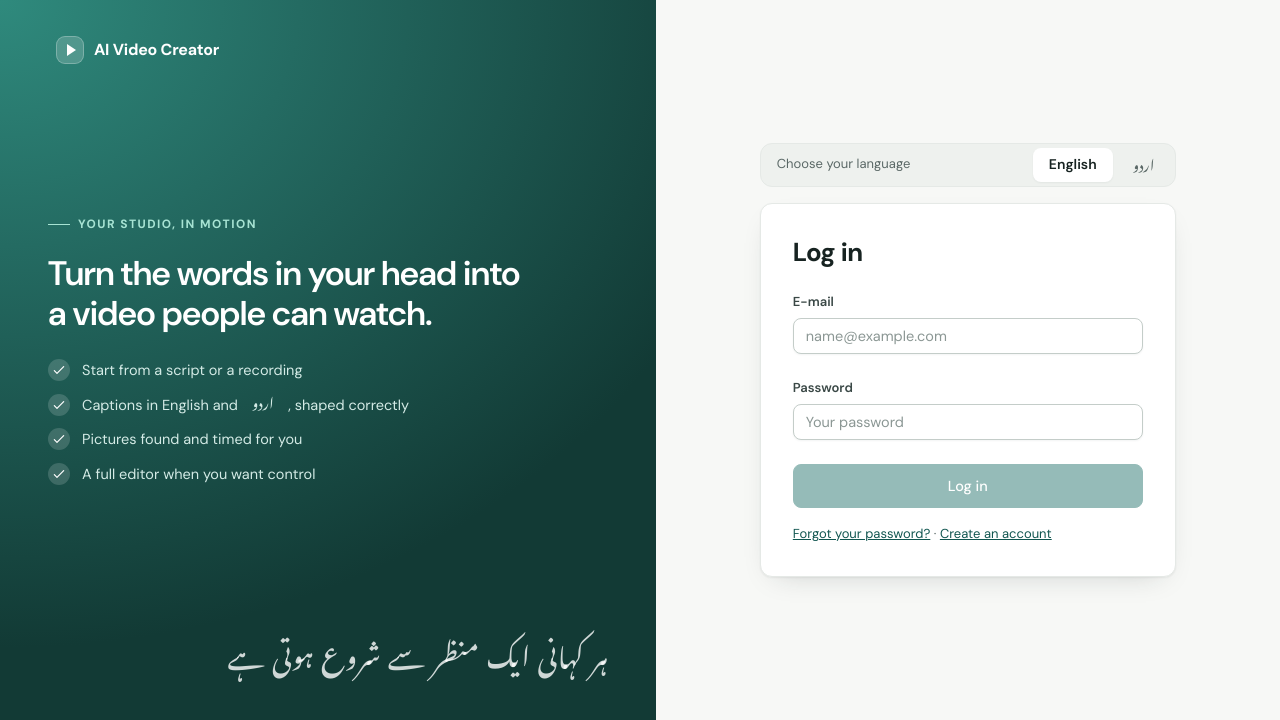
Test case: App and accounts › shows the server's reason when the log-in fails and never the password
Type "ann@example.com" into the field labelled "E-mail" at (968, 336), box [793,318,1143,354]
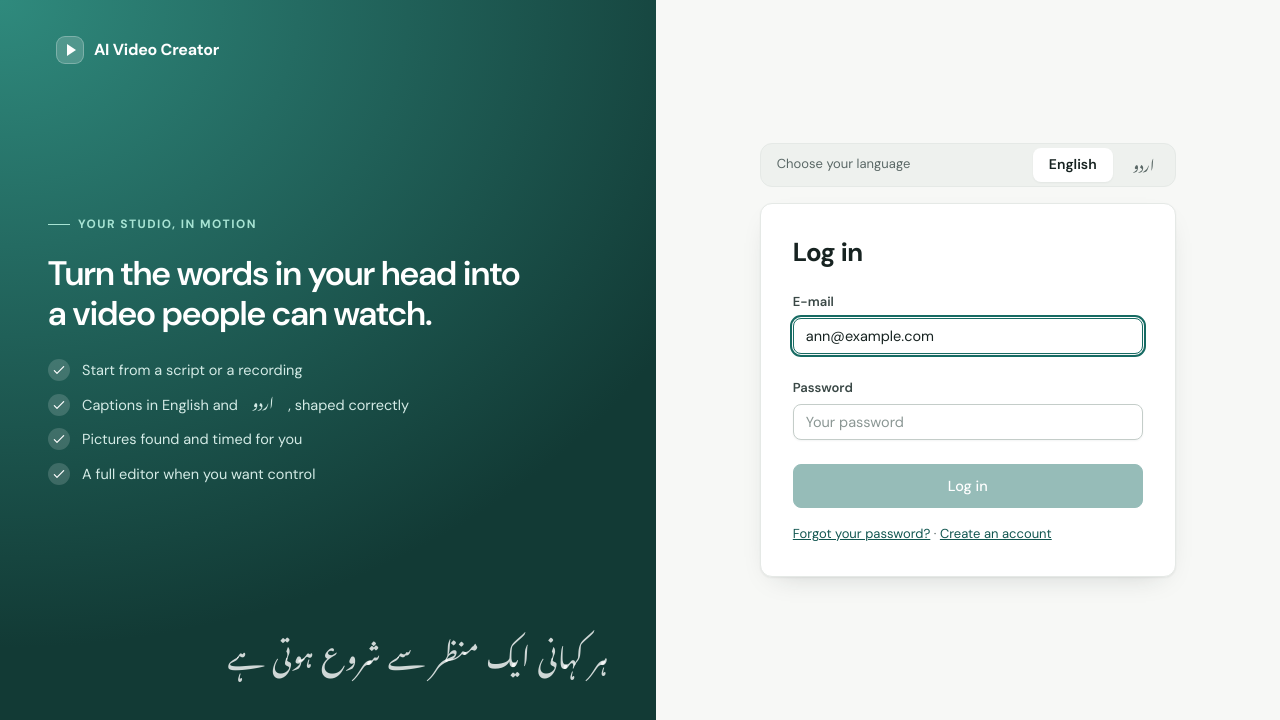
Type "nope nope nope" into the password field labelled "Password" at (968, 422), box [793,404,1143,440]
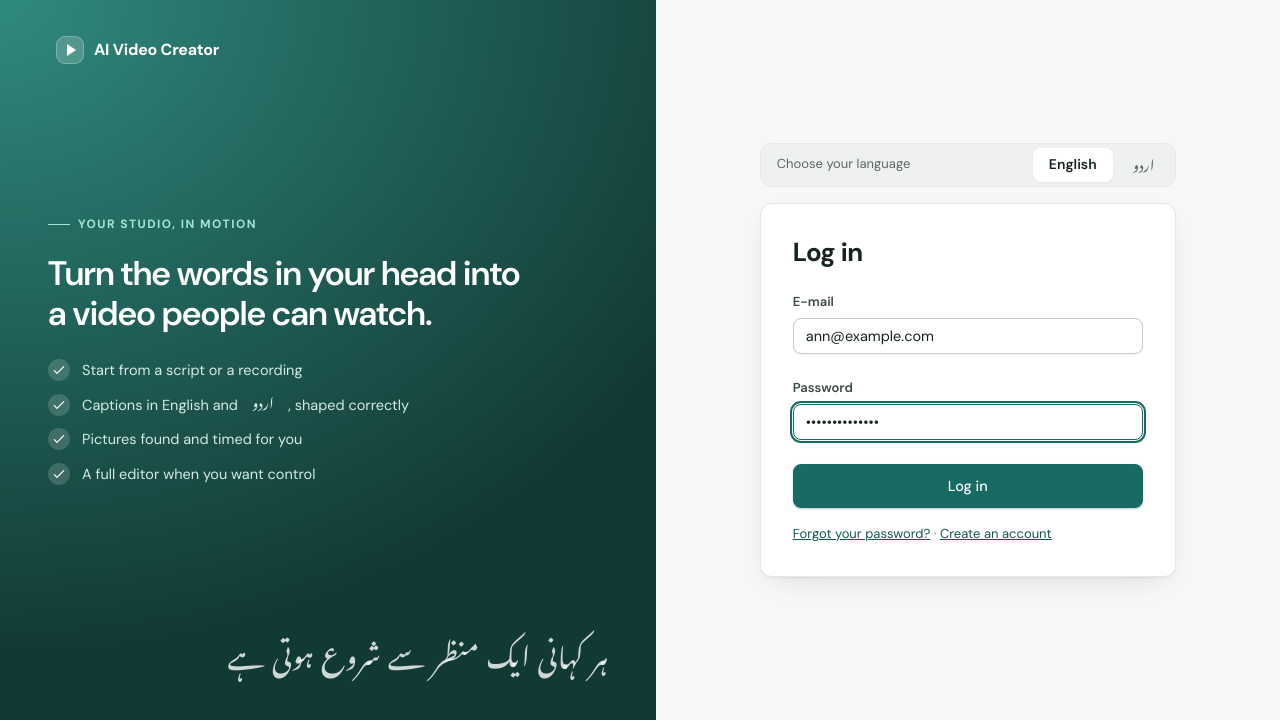
Click the button "Log in" at (968, 486), box [793,464,1143,508]
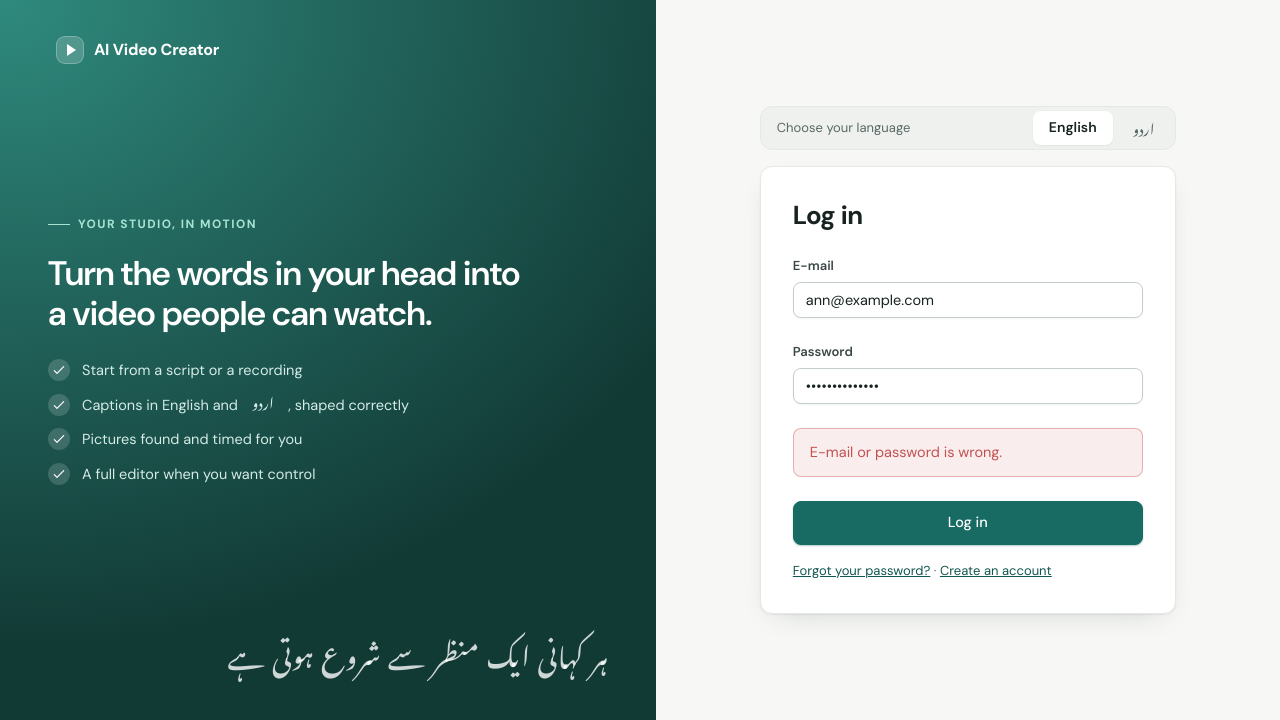
Result: the message reads "E-mail or password is wrong." at [810,443,1002,461]
